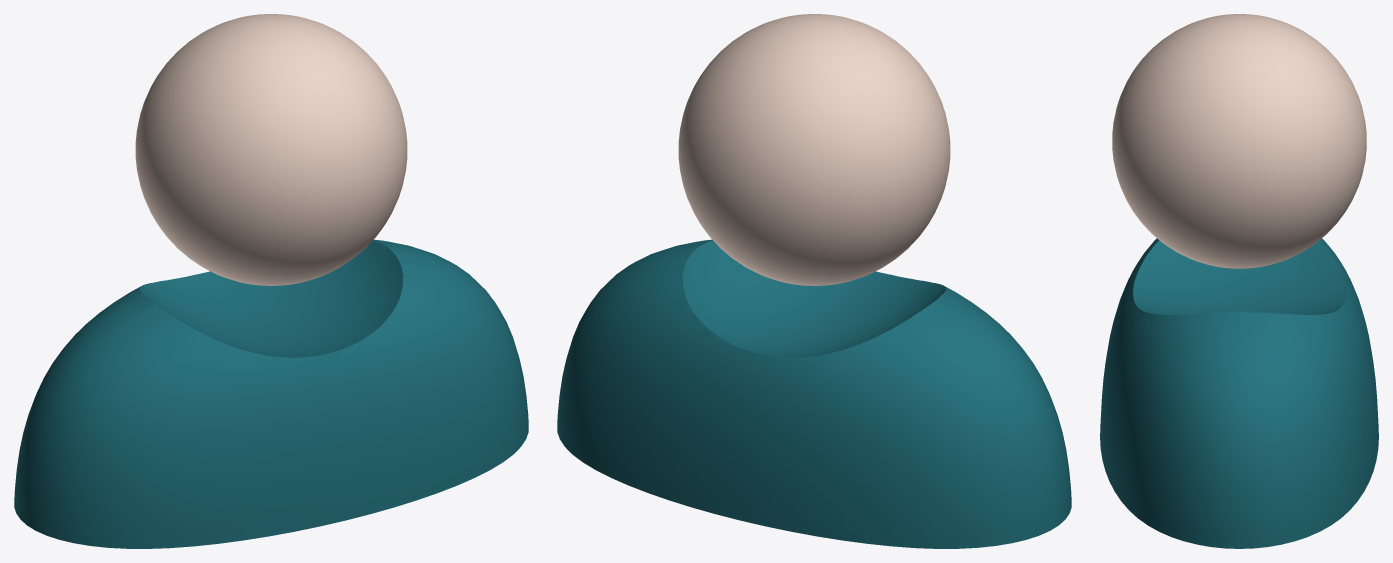
Rendered from InteractiveTreePersonUnknown.dae.
3 views of the same model, side by side, from view 1: azimuth 30°, elevation 25°; view 2: azimuth 150°, elevation 25°; view 3: azimuth 270°, elevation 25° (orthographic). The views are drawn at different scales.
Parts seen in each view (by area): view 1: model; view 2: model; view 3: model.
Part boxes in pixels (box(x1,y1,x2,y2)): model: box(14, 14, 528, 548); model: box(557, 14, 1071, 548); model: box(1100, 14, 1378, 548).
Bounding box in the file's own units: 2.31 × 1.99 × 1.22.
